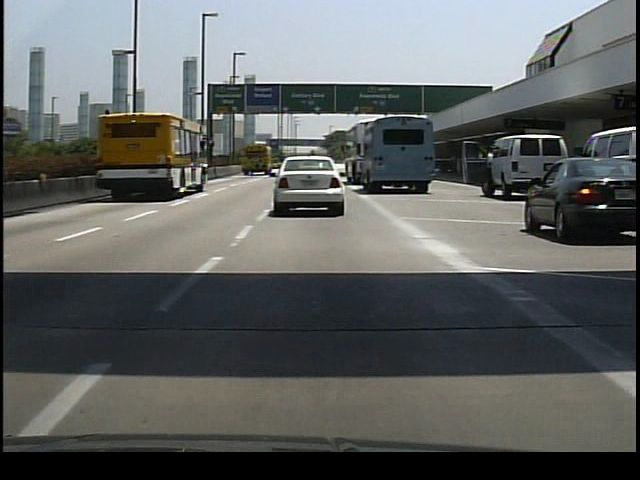person: (481, 138, 498, 203)
